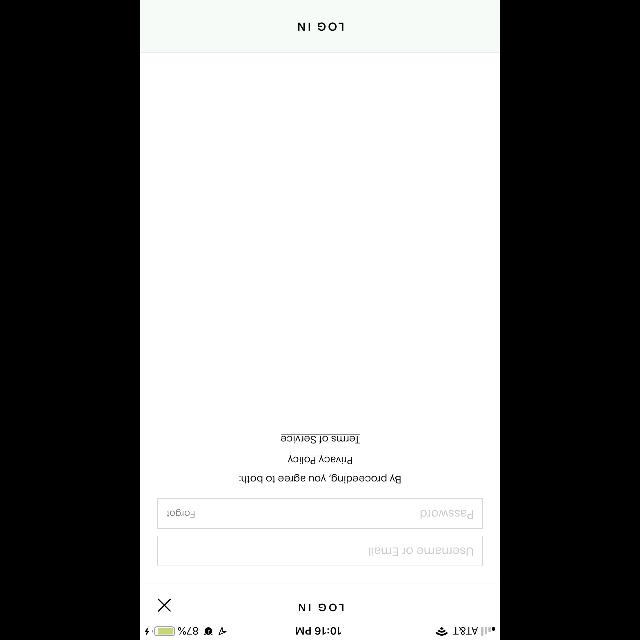icon: (157, 598, 170, 612)
input: (158, 498, 482, 528), (158, 536, 482, 566)
text: (240, 474, 400, 484), (370, 548, 472, 556), (280, 433, 360, 443), (288, 454, 352, 464), (421, 510, 473, 518), (299, 603, 343, 611), (167, 508, 195, 518)
textbutton: (140, 0, 500, 52)
uppertaskbar: (140, 626, 500, 640)
